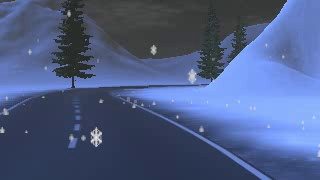Lane: (1, 84, 270, 179)
